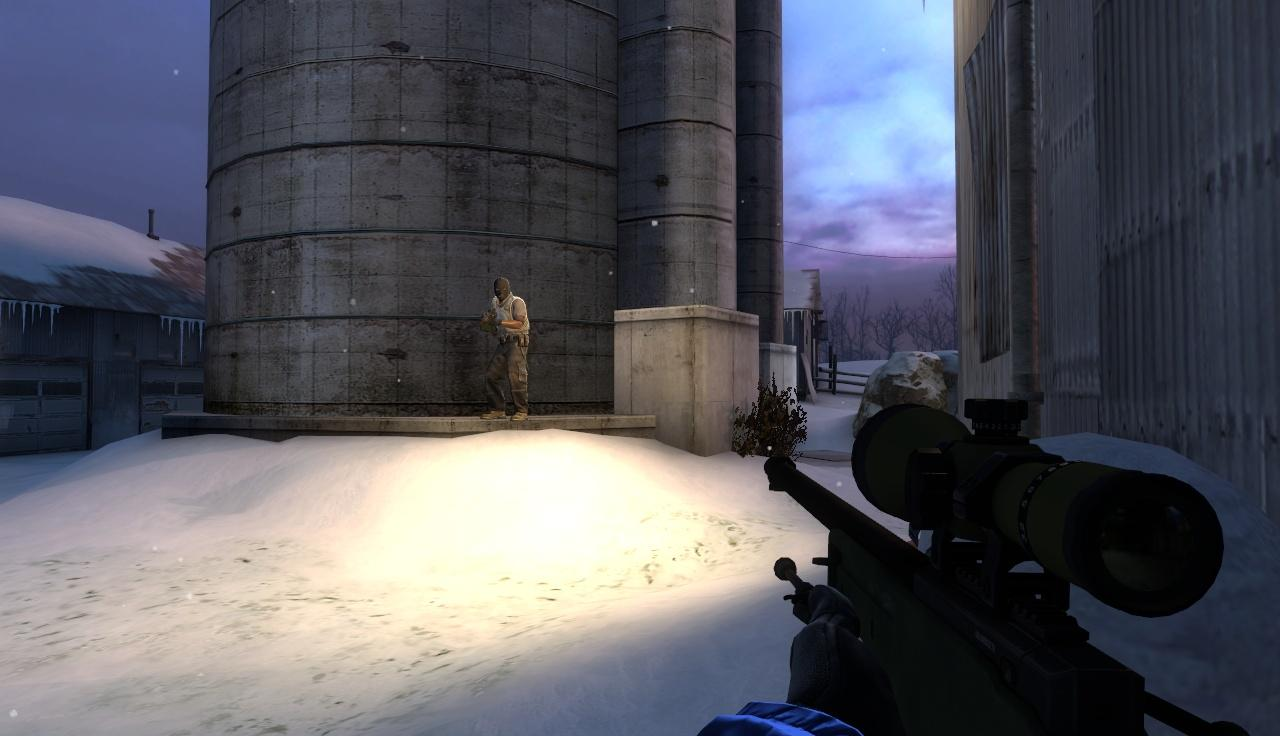sniper: (757, 395, 1232, 736)
tt: (483, 278, 529, 417)
tthead: (492, 279, 511, 302)
